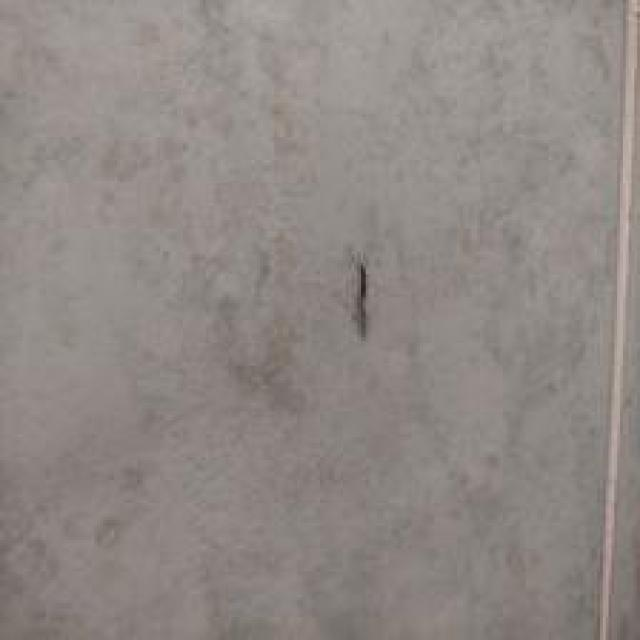Culex: (352, 258, 368, 338)
